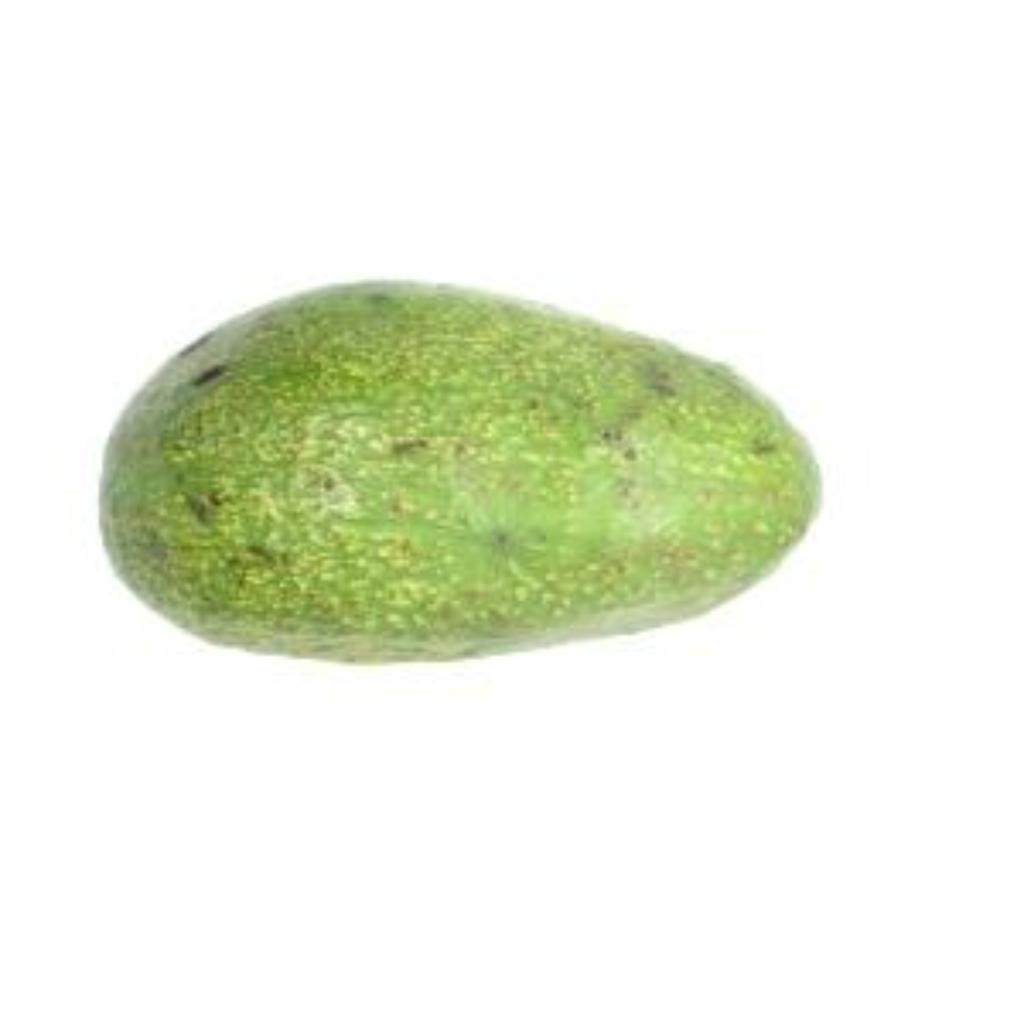cercospora_spot: (98, 280, 828, 676)
